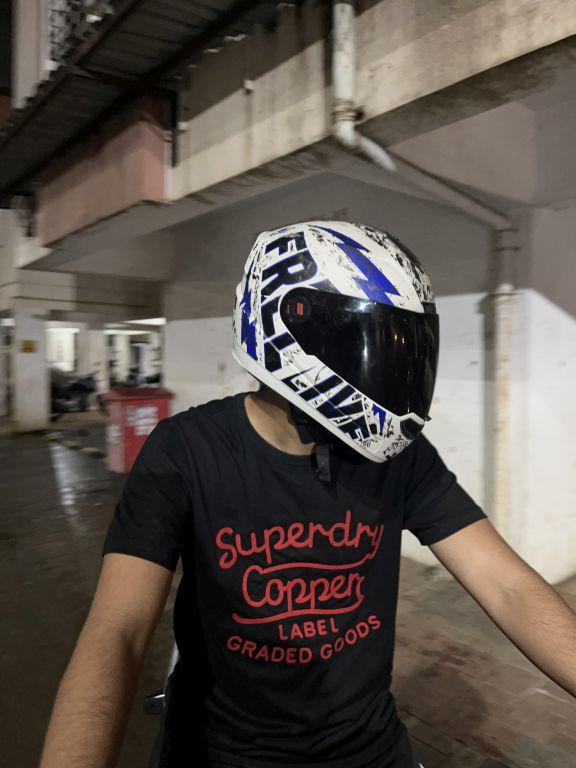helmet: (224, 207, 450, 470)
